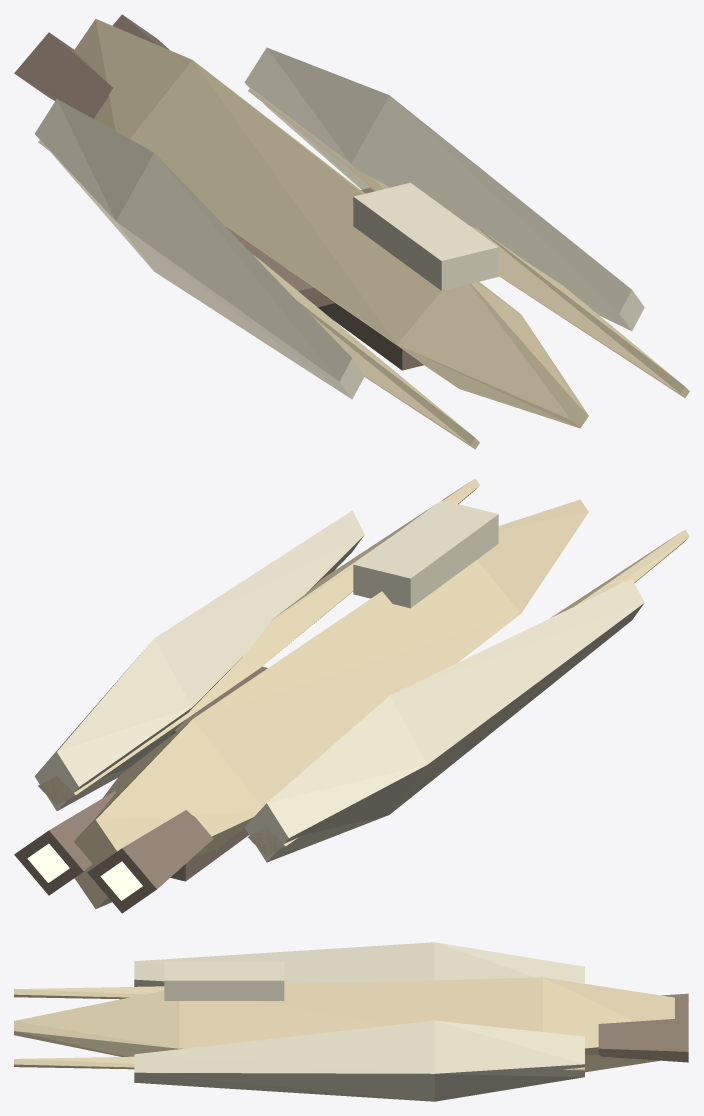
The picture shows the model from 3 angles, top to bottom: view 1: azimuth 30°, elevation 25°; view 2: azimuth 150°, elevation 25°; view 3: azimuth 270°, elevation 25°; orthographic projection. The views are drawn at different scales.
Size of the model in its own units: 1.86 by 0.901 by 5.13.
